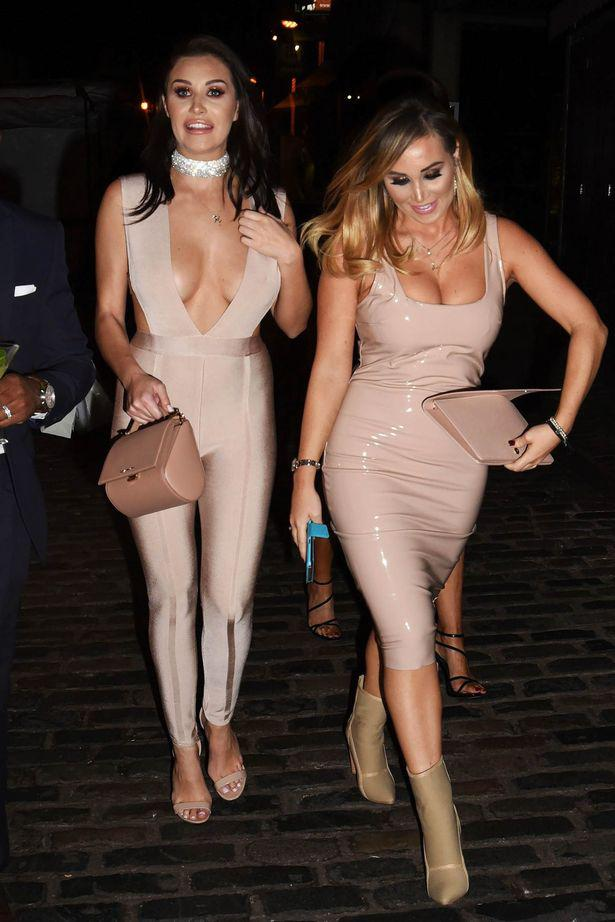Person: (286, 82, 611, 922), (80, 16, 315, 834)
